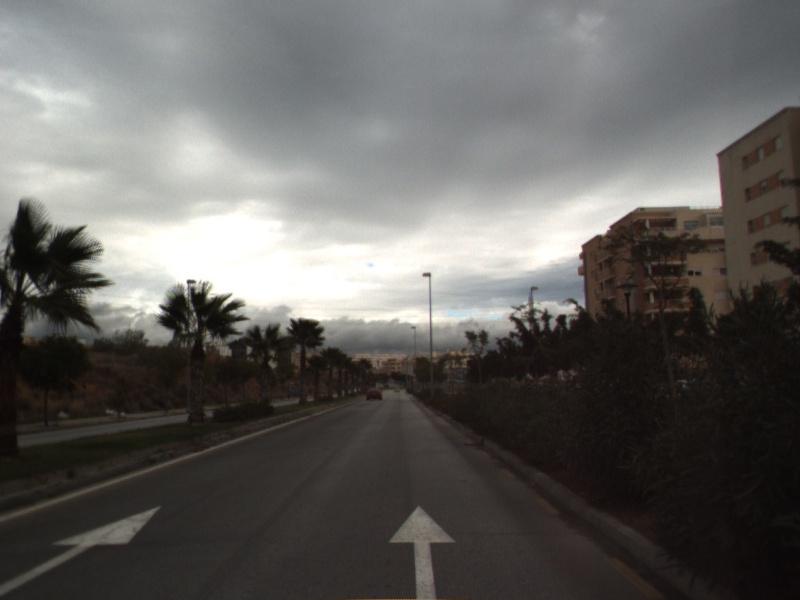STRAIGHT: (1, 503, 164, 596), (386, 503, 458, 600)
